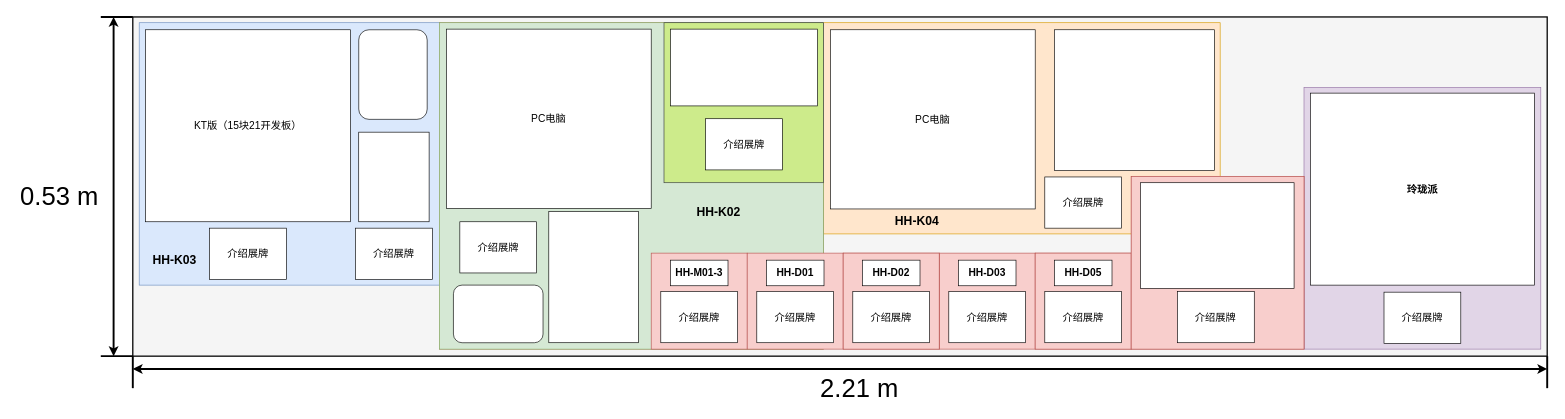
The diagram is 1565 pixels wide and 419 high, and some of its shapes have lost their labels. Here are the shapes that lost their labels. From the top down, the centre of each, then its label:
At [392,74]: "布线".
At [744,67]: "HH-EG01".
At [1134,100]: "DAYU200+63+100B".
At [393,177]: "HH-G02".
At [1217,235]: "HH-K01".
At [593,277]: "点阵纸笔".
At [498,313]: "活动二维码".
